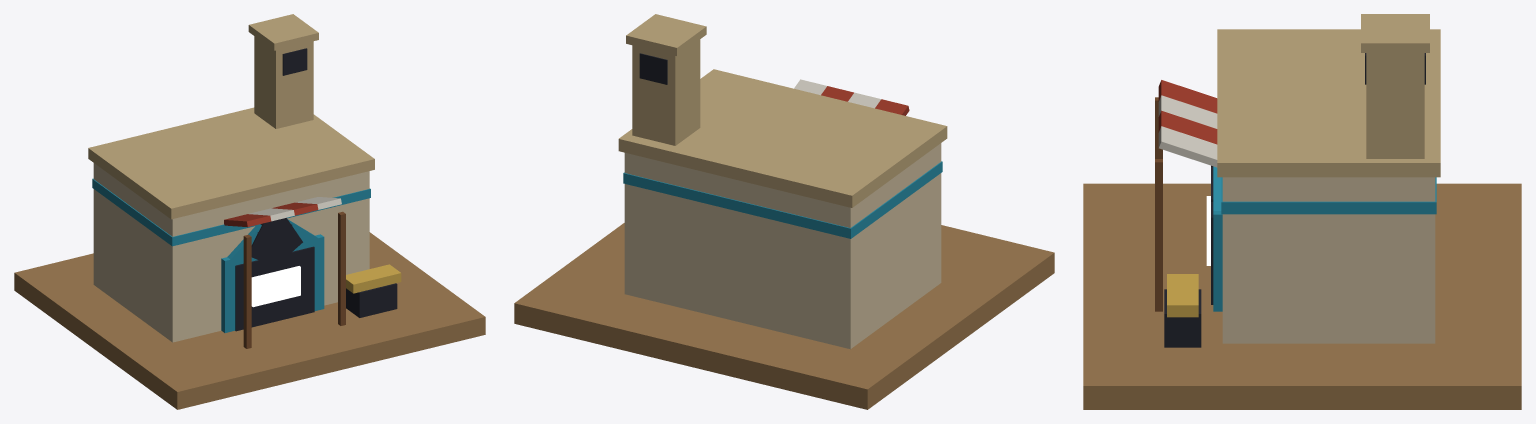
Rendered from workshop_t1.glb.
The picture shows the model from 3 angles, left to right: view 1: azimuth 30°, elevation 25°; view 2: azimuth 150°, elevation 25°; view 3: azimuth 270°, elevation 25°; orthographic projection. The views are drawn at different scales.
Visible parts, largest first — view 1: body, glow; view 2: body; view 3: body.
Boxes of the visible parts, <box> form: body: <box>14,14,485,409</box>; glow: <box>251,266,300,307</box>; body: <box>514,14,1054,409</box>; body: <box>1083,14,1521,409</box>.
Bounding box in the file's own units: 1.8 × 1.35 × 1.65.
